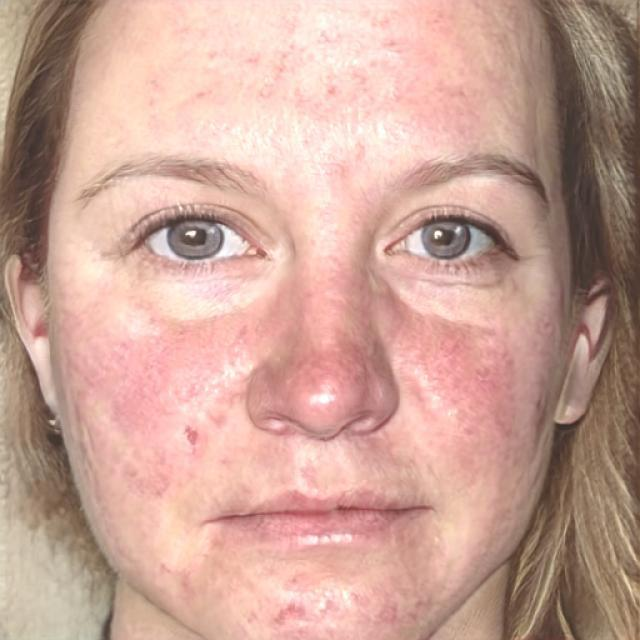Rosacea: (60, 314, 262, 493), (376, 292, 531, 477), (225, 562, 442, 640), (274, 257, 374, 411)
